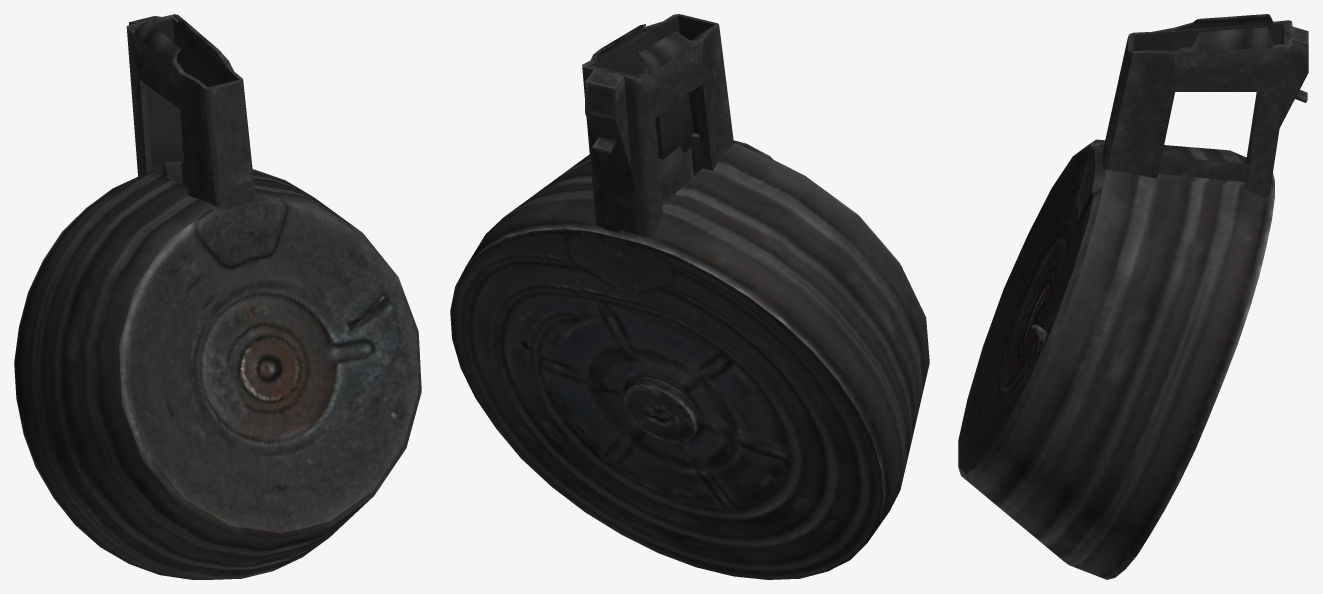
File: mag2.obj
The picture shows the model from 3 angles, left to right: view 1: azimuth 30°, elevation 25°; view 2: azimuth 150°, elevation 25°; view 3: azimuth 270°, elevation 25°; orthographic projection. The views are drawn at different scales.
Visible parts, largest first — view 1: wpn34_75; view 2: wpn34_75; view 3: wpn34_75.
Part boxes in pixels (x1,y1,x2,y2): wpn34_75: (14, 14, 421, 579); wpn34_75: (450, 14, 929, 579); wpn34_75: (958, 14, 1308, 579).
Size of the model in its own units: 0.1798 by 0.2397 by 0.142.
Materials: 1 (1 with a texture image).
